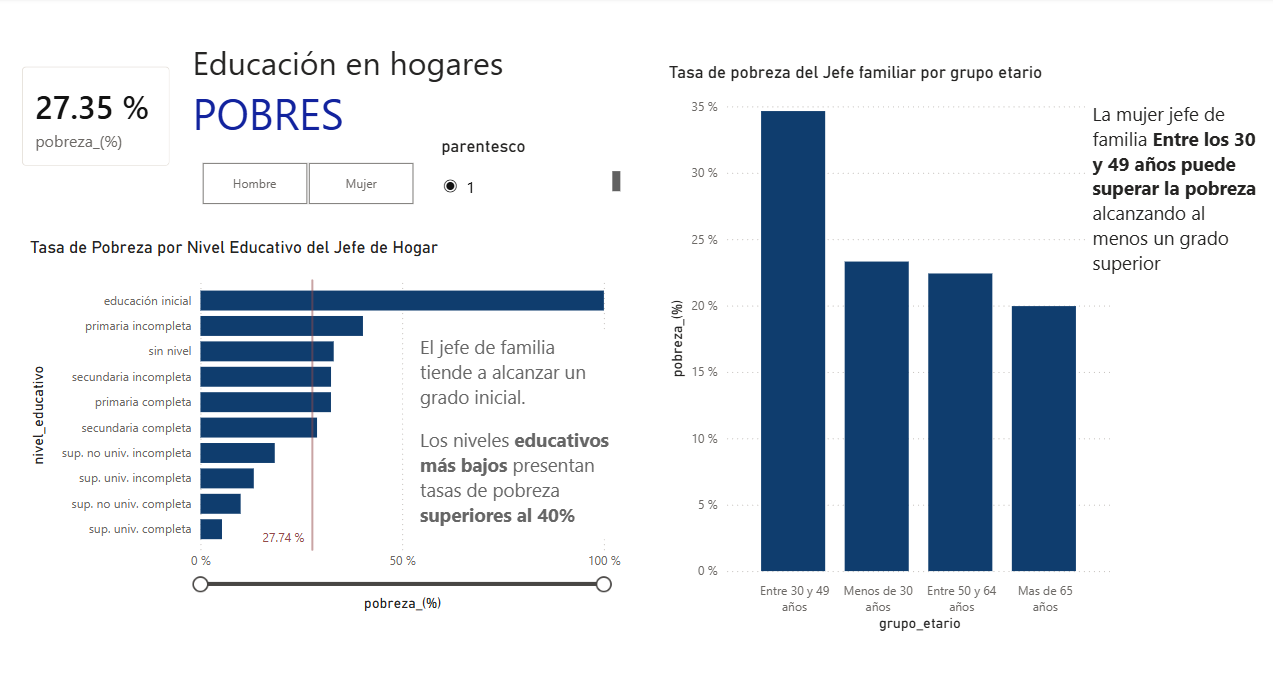

Layout of this report page (visuals, bound fields, positions):
{"tool":"powerbi","page":{"name":"Pobreza Jefe del Hogar","canvas":[1280,720],"ordinal":0},"visuals":[{"type":"clusteredBarChart","title":"Tasa de Pobreza por Nivel Educativo del Jefe de Hogar","fields":{"Category":["ENAHO.nivel_educativo"],"Y":["ENAHO.pobreza_(%)"]},"box":[25,238.6,598.3,377.2],"z":0},{"type":"textbox","box":[186.7,38.3,357,120.7],"z":1000},{"type":"cardVisual","fields":{"Data":["ENAHO.pobreza_(%)"]},"box":[5,52.2,181.6,133.1],"z":2000},{"type":"slicer","fields":{"Values":["ENAHO.sexo_jefe"]},"box":[175,158.3,260,55],"z":3000},{"type":"clusteredColumnChart","title":"Tasa de pobreza del Jefe familiar por grupo etario","fields":{"Category":["ENAHO.grupo_etario"],"Y":["ENAHO.pobreza_(%)"]},"box":[660,64.3,451.4,571.4],"z":4000},{"type":"textbox","box":[412.9,331.4,198.6,208.6],"z":5000},{"type":"textbox","box":[1082.9,98.6,178.6,204.3],"z":6000},{"type":"listSlicer","fields":{"Values":["ENAHO.parentesco"]},"box":[434.7,138.6,188.6,74.9],"z":7000}]}

Visuals, with their boxes on the page's 1280x720 design canvas (x1, y1, x2, y2). These are canvas units, not pixel positions in the 1273x678 screenshot, which may show the page scaled, cropped or inside an application window:
"Tasa de Pobreza por Nivel Educativo del Jefe de Hogar" clusteredBarChart: 25,239,623,616
textbox: 187,38,544,159
cardVisual - ENAHO.pobreza_(%): 5,52,187,185
slicer - ENAHO.sexo_jefe: 175,158,435,213
"Tasa de pobreza del Jefe familiar por grupo etario" clusteredColumnChart: 660,64,1111,636
textbox: 413,331,612,540
textbox: 1083,99,1262,303
listSlicer - ENAHO.parentesco: 435,139,623,214
